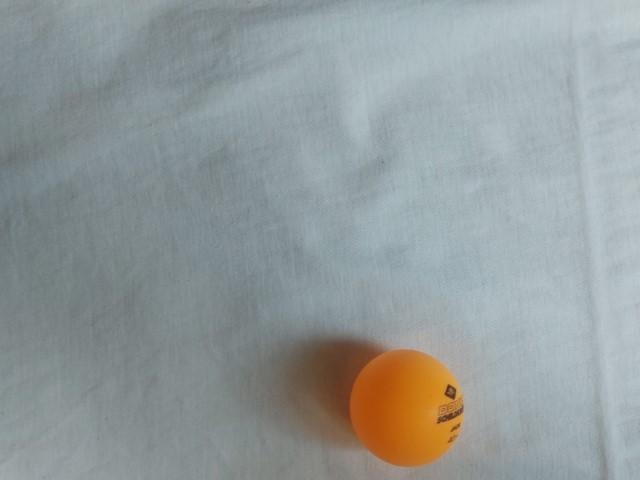oball: (338, 344, 478, 473)
